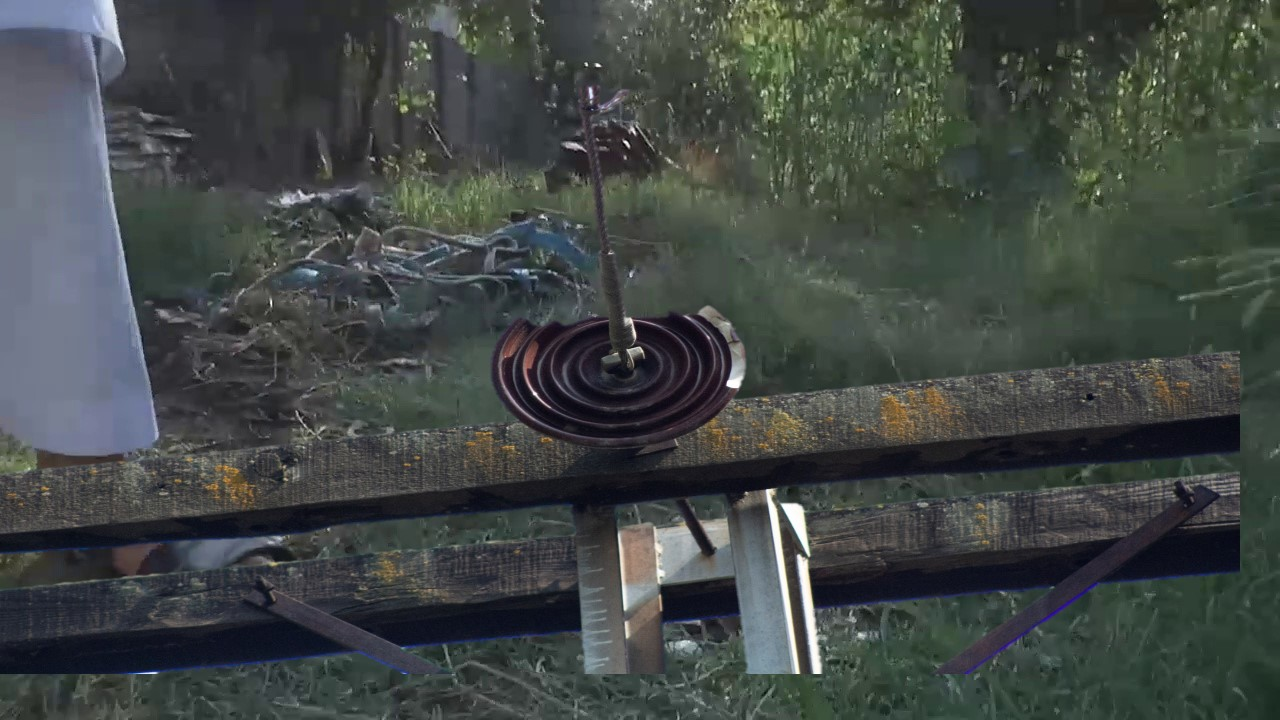defect_disc: (487, 293, 758, 448)
